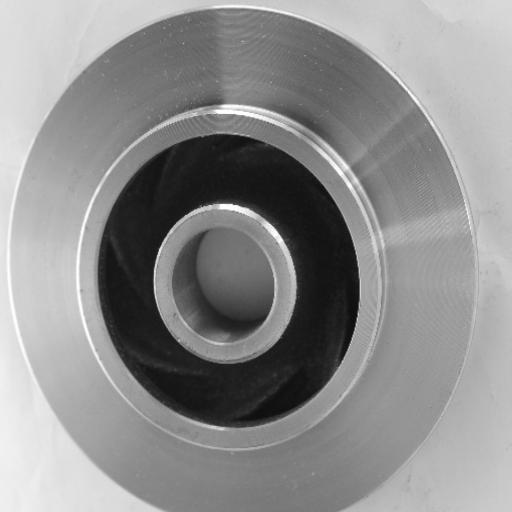polished_casting: (8, 6, 479, 512)
